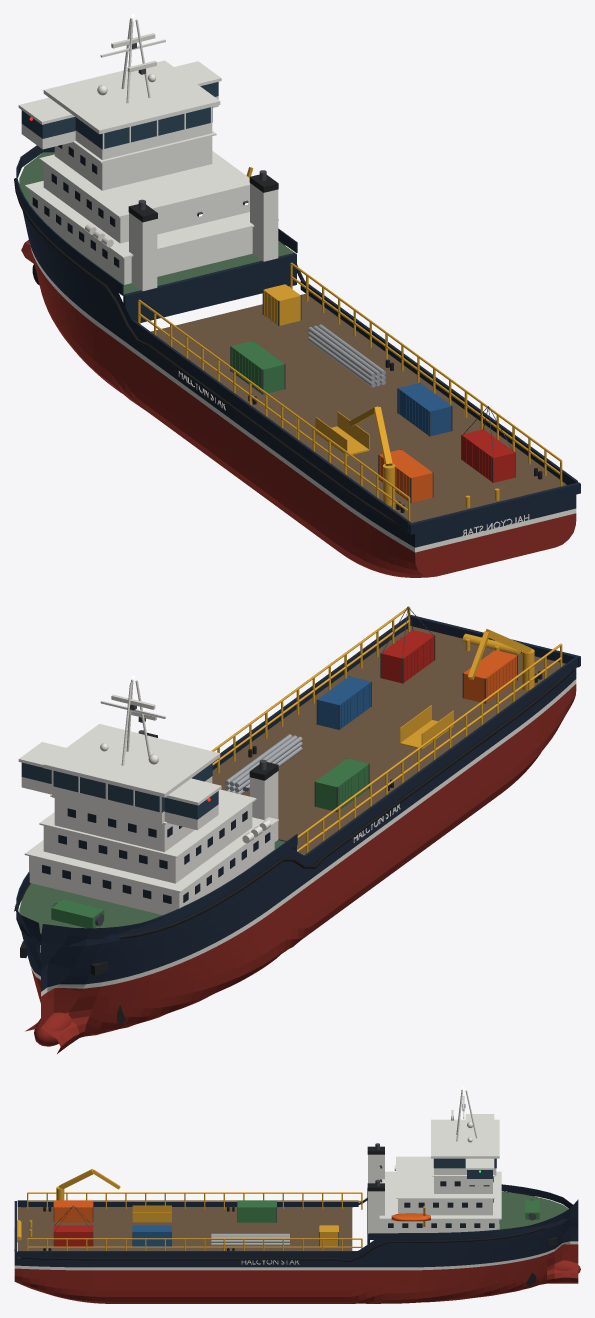
Rendered from psv.glb.
3 renders of one model, top to bottom at view 1: azimuth 30°, elevation 25°; view 2: azimuth 150°, elevation 25°; view 3: azimuth 270°, elevation 25°, orthographic. The views are drawn at different scales.
Visible parts, largest first — view 1: psv_static, psv_hull, cargo_lift; view 2: psv_static, psv_hull, cargo_lift; view 3: psv_static, psv_hull, cargo_lift.
Boxes of the visible parts, left/top/right/bottom form: psv_static: left=14, top=14, right=580, bottom=534; psv_hull: left=16, top=181, right=576, bottom=577; cargo_lift: left=461, top=406, right=515, bottom=482; psv_static: left=14, top=606, right=580, bottom=1046; psv_hull: left=14, top=669, right=576, bottom=1053; cargo_lift: left=380, top=606, right=435, bottom=683; psv_static: left=14, top=1087, right=580, bottom=1284; psv_hull: left=14, top=1199, right=578, bottom=1303; cargo_lift: left=53, top=1205, right=93, bottom=1246.
Bounding box in the file's own units: 19.92 × 32.88 × 86.48.
